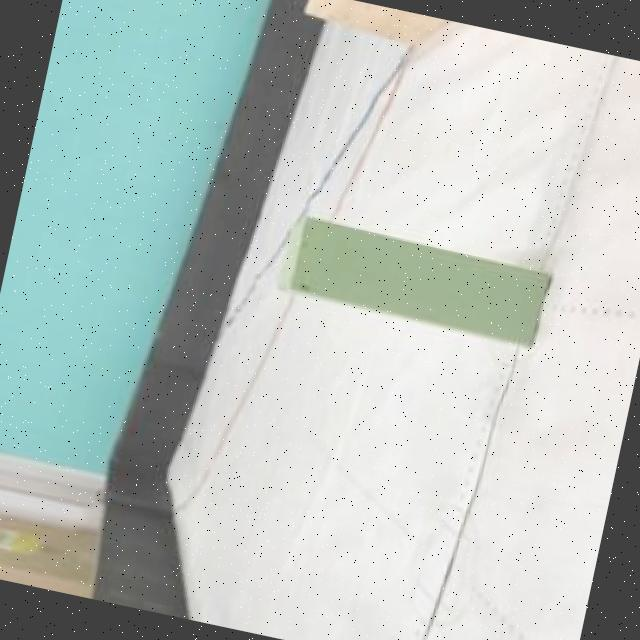greenbox: (274, 216, 549, 346)
